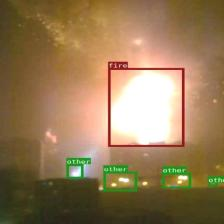fire: (107, 68, 184, 146)
